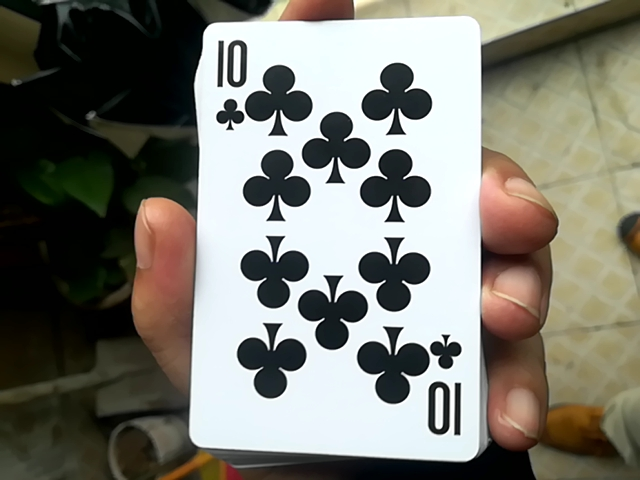mh 10: (183, 8, 477, 446)
